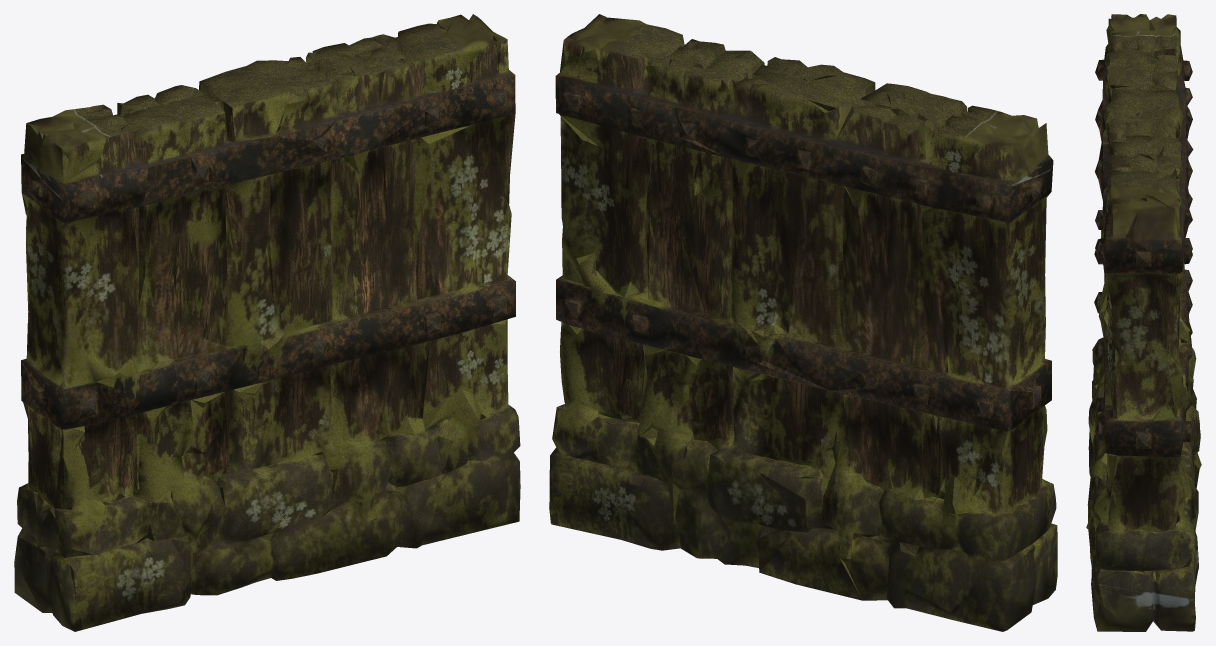
File: prison-wall.glb
3 views of the same model, side by side, from view 1: azimuth 30°, elevation 25°; view 2: azimuth 150°, elevation 25°; view 3: azimuth 270°, elevation 25° (orthographic). The views are drawn at different scales.
Size of the model in its own units: 2 by 1.94 by 0.4765.
Materials: 1 (1 with a texture image).
